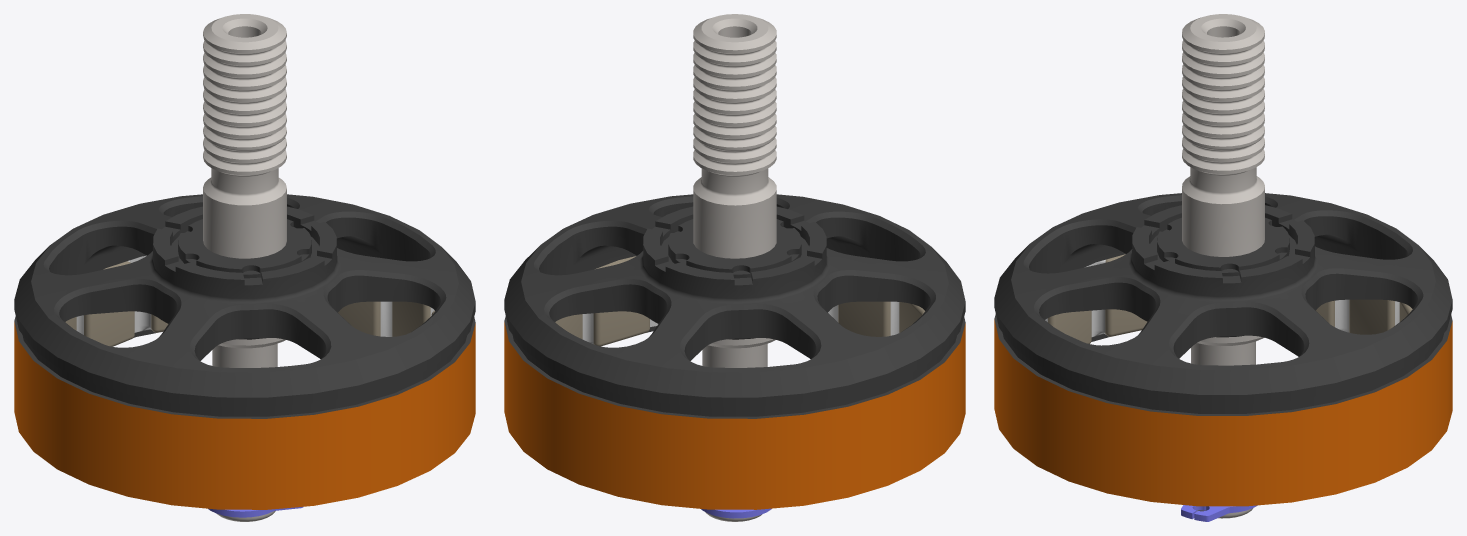
The model's file is rotar.glb.
3 renders of one model, left to right at view 1: azimuth 30°, elevation 25°; view 2: azimuth 150°, elevation 25°; view 3: azimuth 270°, elevation 25°, orthographic.
Parts seen in each view (by area): view 1: Rotor Housing^Rotor_F40; view 2: Rotor Housing^Rotor_F40; view 3: Rotor Housing^Rotor_F40.
Boxes of the visible parts, x1,y1,x2,y2 form: Rotor Housing^Rotor_F40: [14, 14, 475, 521]; Rotor Housing^Rotor_F40: [504, 14, 965, 521]; Rotor Housing^Rotor_F40: [994, 14, 1452, 521].
Bounding box in the file's own units: 0.0274 × 0.0317 × 0.0275.
